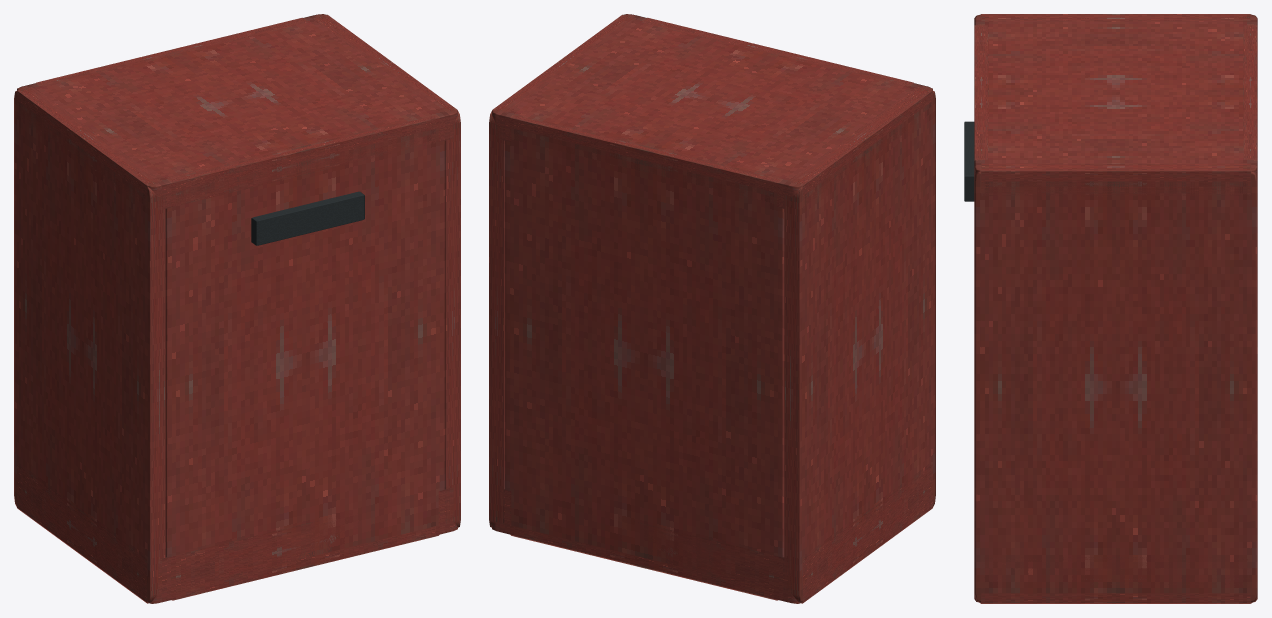
File: sharps.glb
3 views of the same model, side by side, from view 1: azimuth 30°, elevation 25°; view 2: azimuth 150°, elevation 25°; view 3: azimuth 270°, elevation 25° (orthographic). The views are drawn at different scales.
Parts seen in each view (by area): view 1: edge (×2), side (×2), lid, bottom, grip; view 2: edge (×2), side (×2), lid, bottom; view 3: side (×2), lid, edge (×2), bottom, grip.
Boxes of the visible parts, <box> form: edge (×2): <box>36,17,445,600</box>; side (×2): <box>14,14,460,603</box>; lid: <box>17,14,457,210</box>; bottom: <box>17,464,457,603</box>; grip: <box>251,191,364,245</box>; edge (×2): <box>504,17,913,600</box>; side (×2): <box>489,14,935,603</box>; lid: <box>492,14,932,209</box>; bottom: <box>492,464,932,603</box>; side (×2): <box>974,14,1257,603</box>; lid: <box>974,14,1257,196</box>; edge (×2): <box>974,25,1257,160</box>; bottom: <box>974,557,1257,602</box>; grip: <box>964,121,974,201</box>.
Bounding box in the file's own units: 0.21 × 0.27 × 0.1656.
2 materials, 2 textured.
